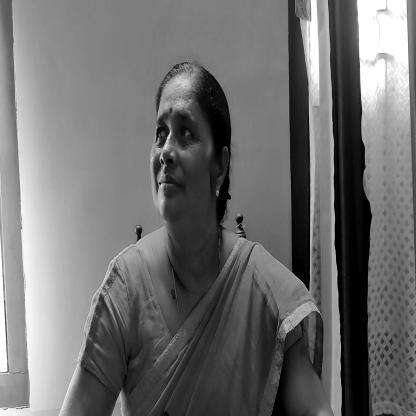Distracted: (151, 66, 239, 242)
